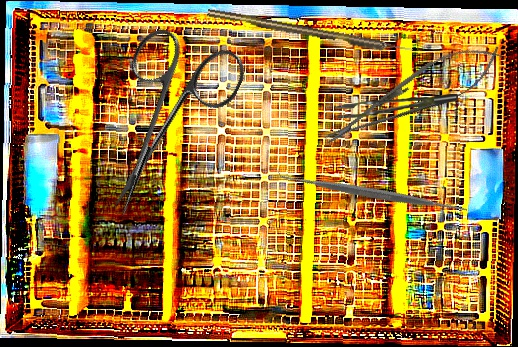Hook Surgical: (206, 7, 414, 57)
Iris Scissors: (70, 15, 252, 238)
Needle Holder: (313, 29, 511, 162)
Spatula Surgical: (275, 95, 472, 291)
Tissue Forceps: (335, 94, 458, 118)
